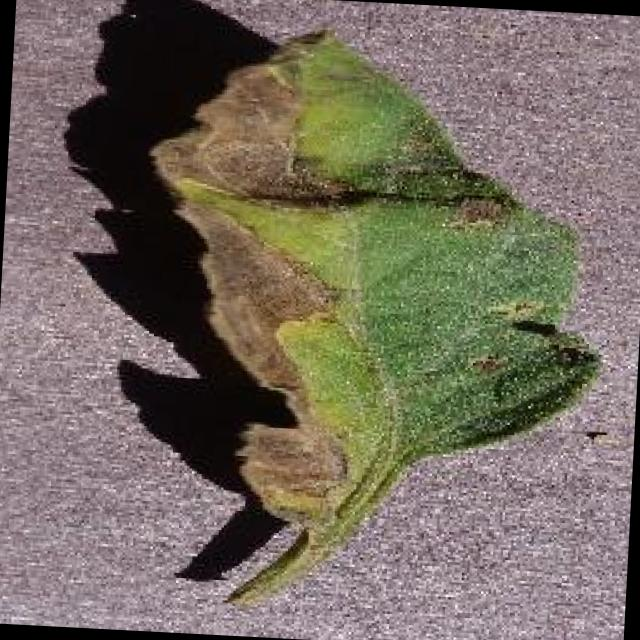Tomato_Early_Blight: (112, 8, 407, 548)
